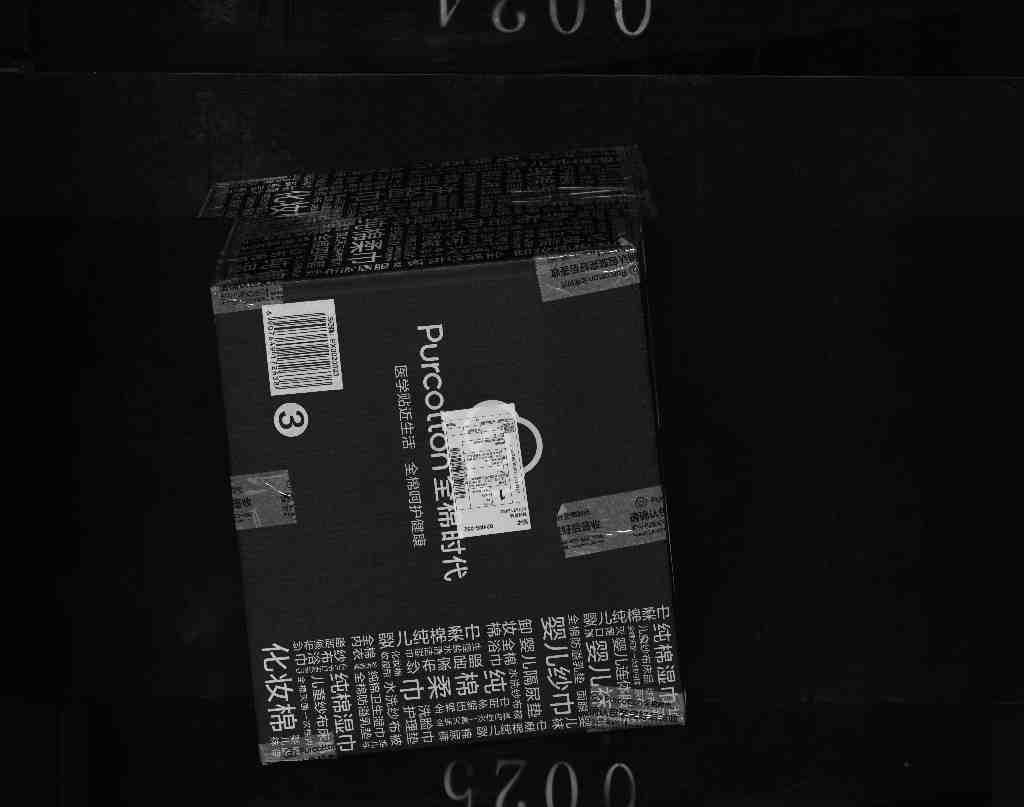box: (160, 138, 705, 761)
